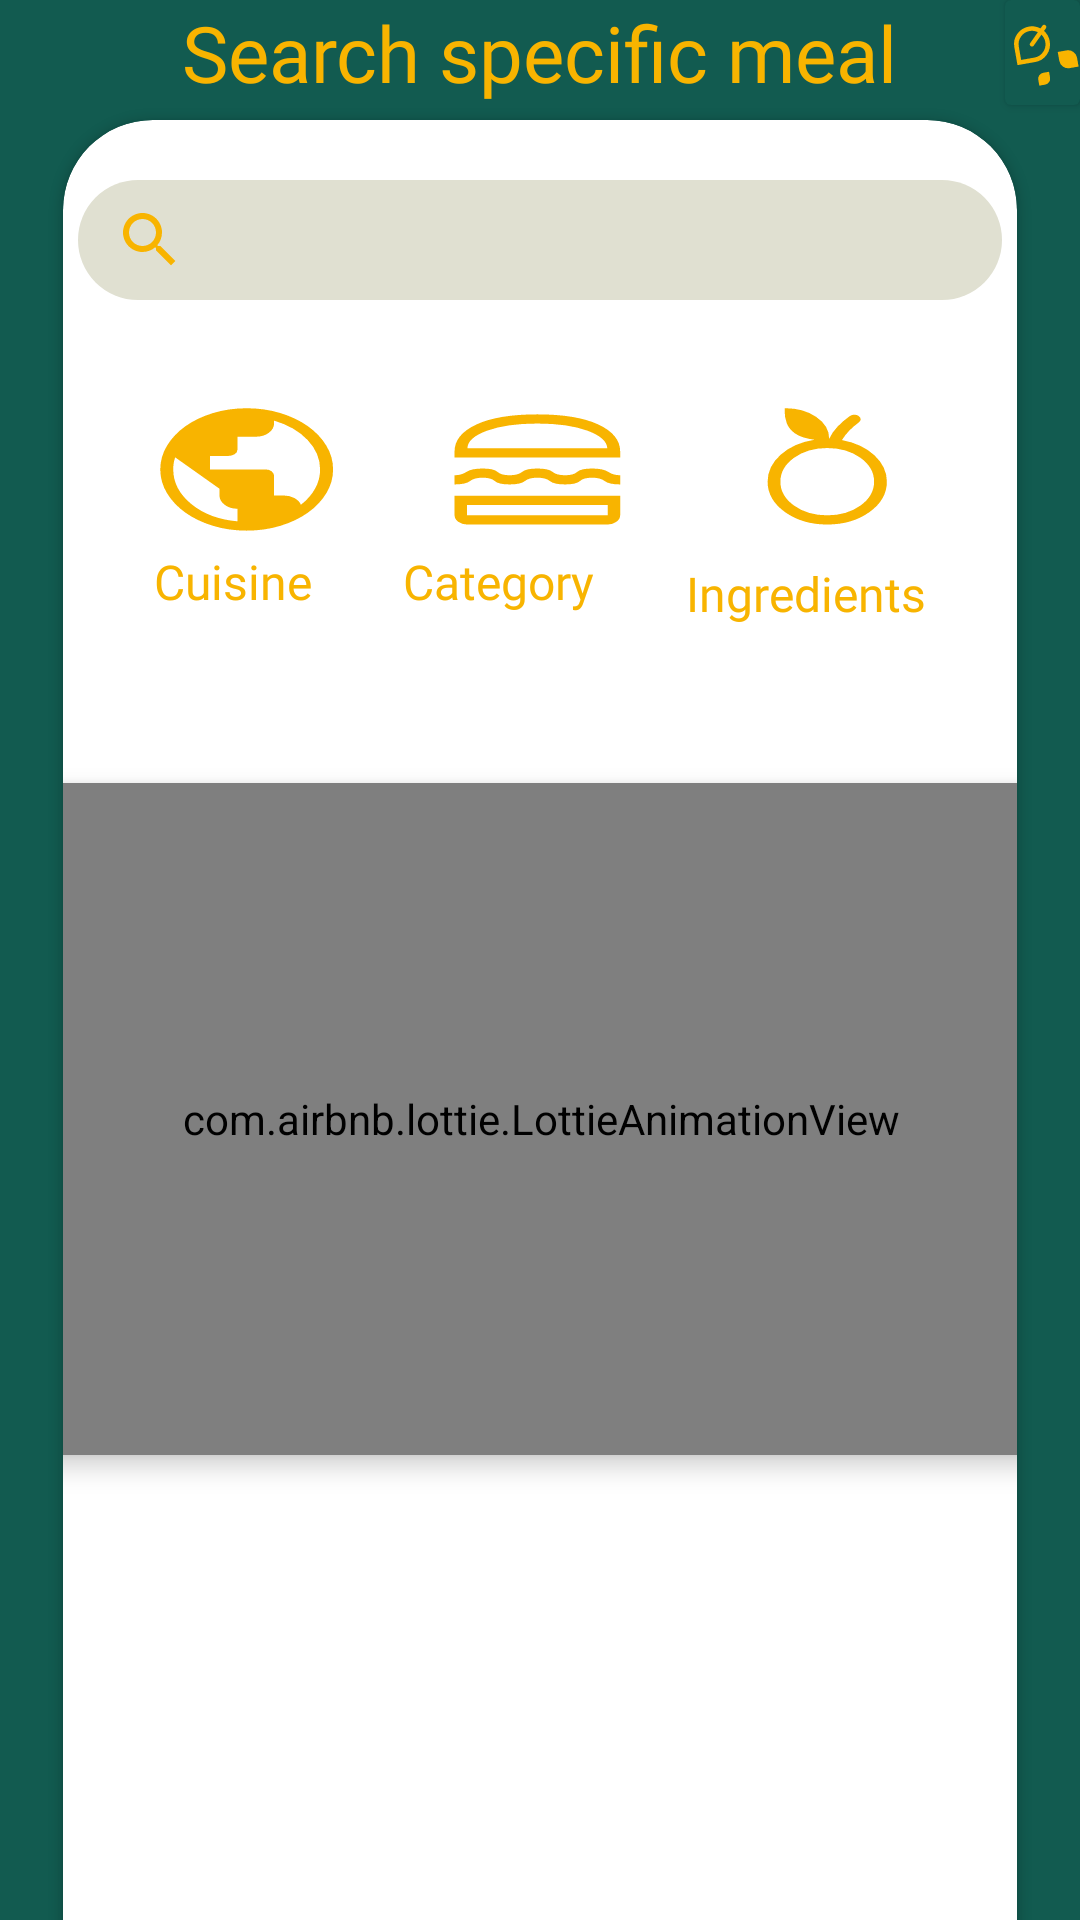

Icons on this 1080×1920 Android screen, each with the point to tap as point (x, y):
country: point (246, 469)
ingridient: point (827, 466)
